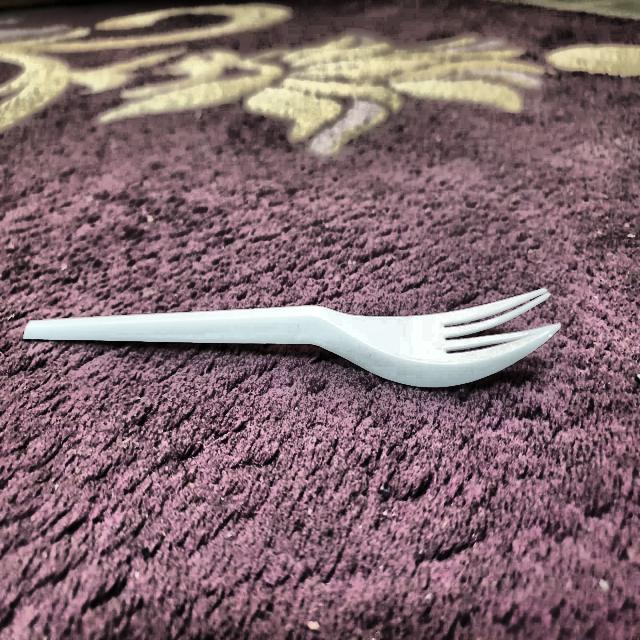plastic utensil: (20, 280, 568, 407)
